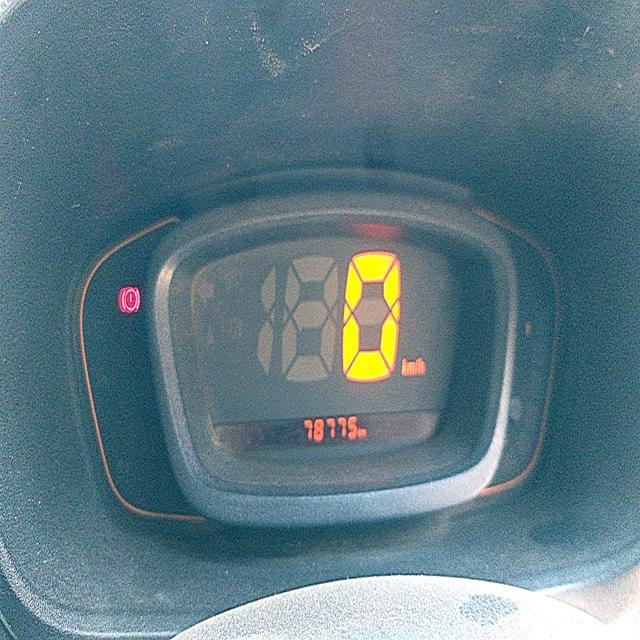odometer: (303, 415, 358, 443)
